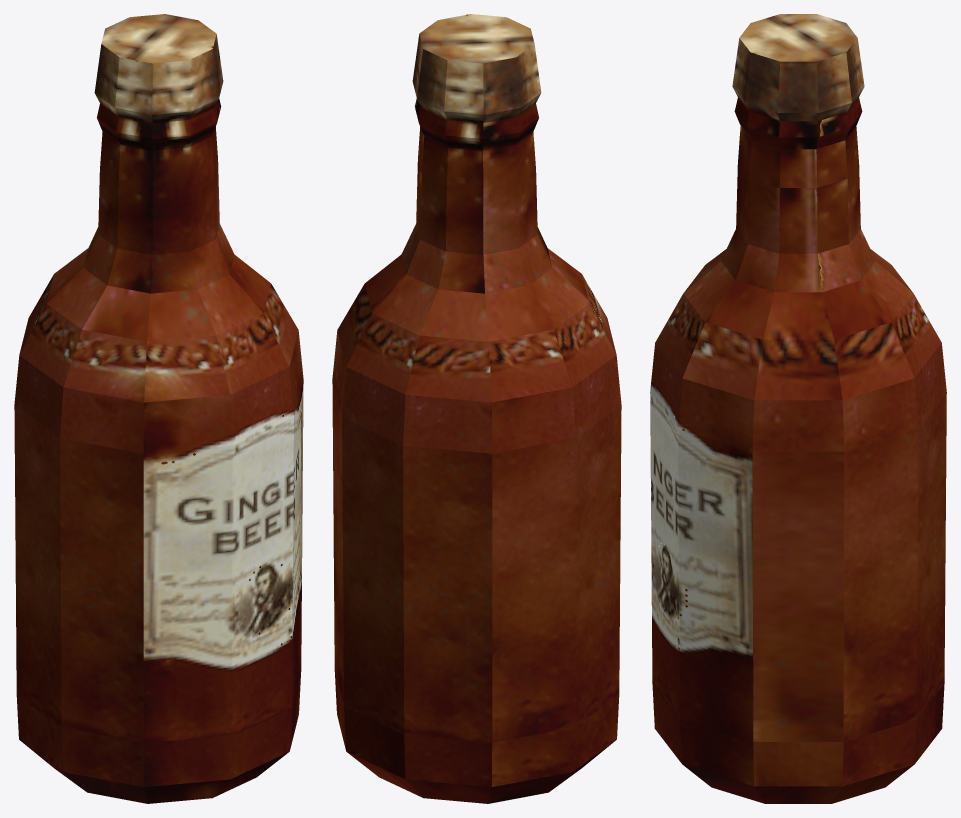
File: Beer_Bottle.fbx
3 views of the same model, side by side, from view 1: azimuth 30°, elevation 25°; view 2: azimuth 150°, elevation 25°; view 3: azimuth 270°, elevation 25° (orthographic).
Parts seen in each view (by area): view 1: Beer; view 2: Beer; view 3: Beer.
Part boxes in pixels (x1=…): Beer: x1=14, y1=14, x2=303, y2=803; Beer: x1=332, y1=14, x2=621, y2=803; Beer: x1=650, y1=14, x2=946, y2=803.
Bounding box in the file's own units: 159 × 449 × 167.
Materials: 1 (1 with a texture image).
